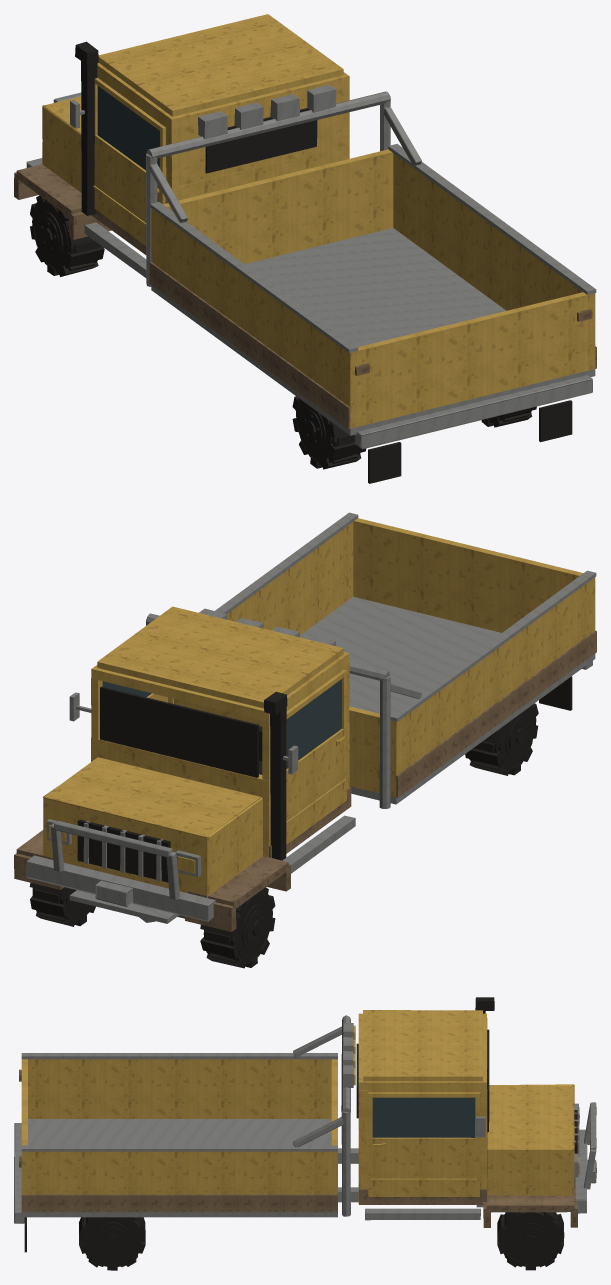
Rendered from sandrunner.glb.
3 views of the same model, one above another, from view 1: azimuth 30°, elevation 25°; view 2: azimuth 150°, elevation 25°; view 3: azimuth 270°, elevation 25° (orthographic). The views are drawn at different scales.
Visible parts, largest first — view 1: Sandrunner, Tailgate, Door_L, Wheel_L1, Wheel_L2, Glass_L; view 2: Sandrunner, Tailgate, Door_L, Wheel_L1, Wheel_L2, Glass_L, Wheel_R1; view 3: Sandrunner, Door_R, Glass_R, Wheel_R1, Wheel_R2, Tailgate.
Part boxes in pixels (<box>): Sandrunner: <box>14,14,596,483</box>; Tailgate: <box>357,292,588,426</box>; Door_L: <box>93,77,166,245</box>; Wheel_L1: <box>30,195,104,276</box>; Wheel_L2: <box>292,396,366,469</box>; Glass_L: <box>97,86,164,176</box>; Sandrunner: <box>14,512,596,931</box>; Tailgate: <box>353,518,583,632</box>; Door_L: <box>286,670,347,844</box>; Wheel_L1: <box>200,887,275,968</box>; Wheel_L2: <box>465,703,538,775</box>; Glass_L: <box>286,679,341,768</box>; Wheel_R1: <box>29,882,95,926</box>; Sandrunner: <box>14,997,596,1252</box>; Door_R: <box>368,1092,479,1196</box>; Glass_R: <box>372,1097,479,1137</box>; Wheel_R1: <box>497,1212,564,1270</box>; Wheel_R2: <box>79,1217,145,1270</box>; Tailgate: <box>21,1059,27,1145</box>.
Size of the model in its own units: 3.07 by 2.9 by 7.84.
5 materials, 3 textured.
